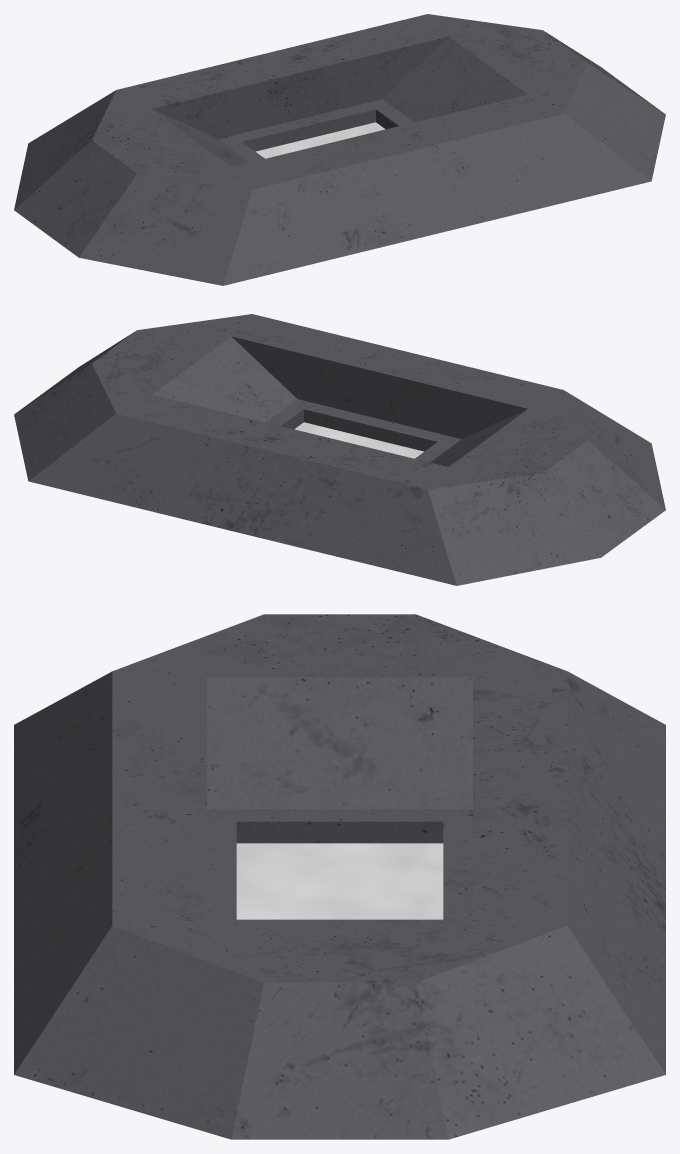
The model's file is starship_light.fbx.
The picture shows the model from 3 angles, top to bottom: view 1: azimuth 30°, elevation 25°; view 2: azimuth 150°, elevation 25°; view 3: azimuth 270°, elevation 25°; orthographic projection. The views are drawn at different scales.
Parts seen in each view (by area): view 1: Lamp_1, starship_light; view 2: Lamp_1, starship_light; view 3: Lamp_1, starship_light.
Part boxes in pixels (x1=…): Lamp_1: x1=14, y1=14, x2=665, y2=285; starship_light: x1=256, y1=122, x2=385, y2=158; Lamp_1: x1=14, y1=314, x2=665, y2=585; starship_light: x1=294, y1=422, x2=423, y2=458; Lamp_1: x1=14, y1=614, x2=665, y2=1139; starship_light: x1=236, y1=843, x2=443, y2=919.
Size of the model in its own units: 0.2247 by 0.0222 by 0.1291.
Materials: 2 (2 with a texture image).
